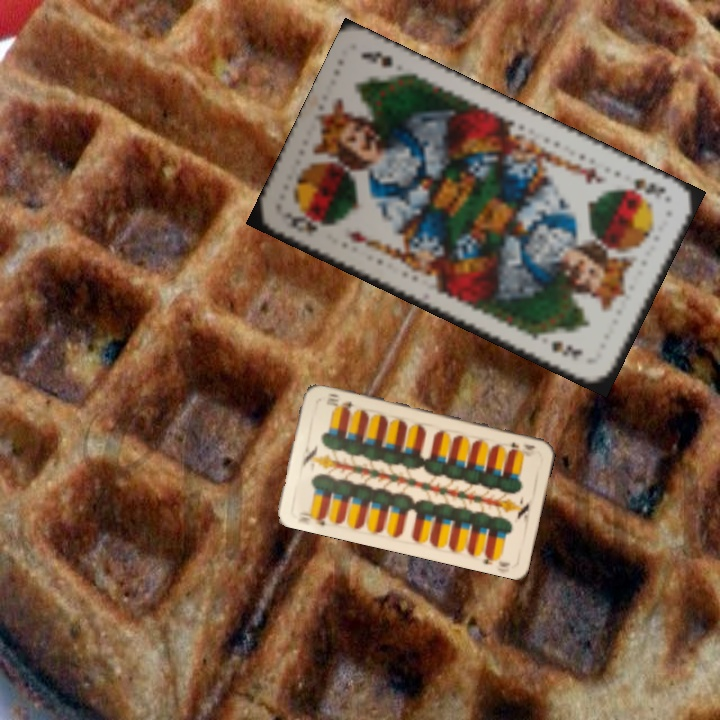E10: (296, 509, 329, 529), (507, 438, 538, 453)
SK: (619, 173, 669, 202), (281, 209, 320, 237)
